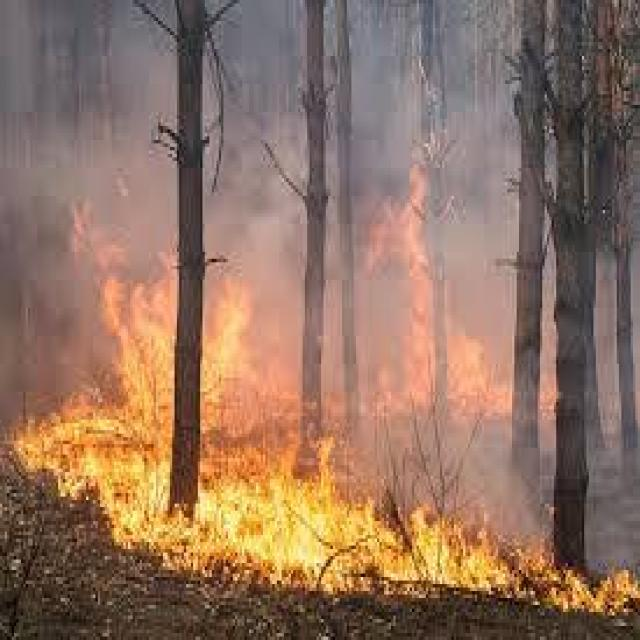fire: (79, 299, 373, 613)
smoke: (391, 62, 589, 566), (32, 51, 300, 349)
